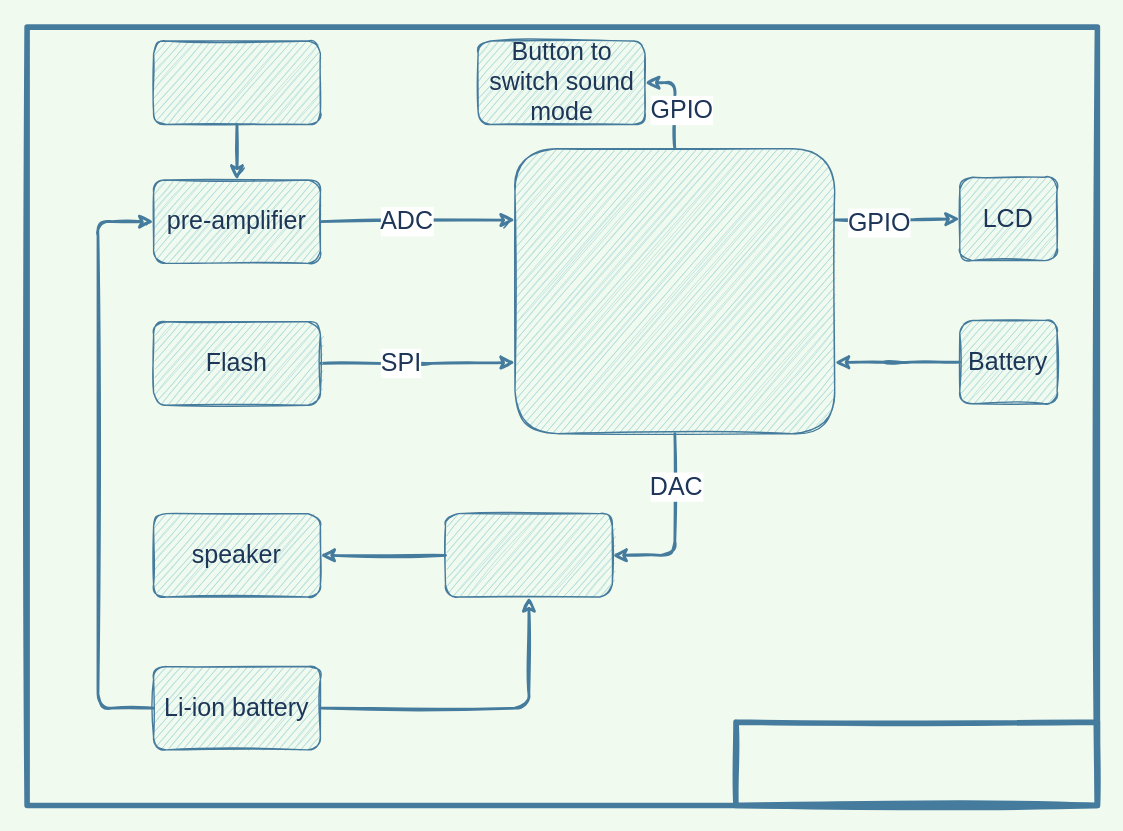
The diagram is 1123 pixels wide and 831 high, and some of its shapes have lost their labels. Here are the shapes that lost their labels. From the top down, the centre of each, then its label:
At (x=236, y=82): "Piezoelectric pickup".
At (x=674, y=290): "MCU".
At (x=528, y=554): "amplifier".
At (x=916, y=763): "Hardware Block Diagram".
